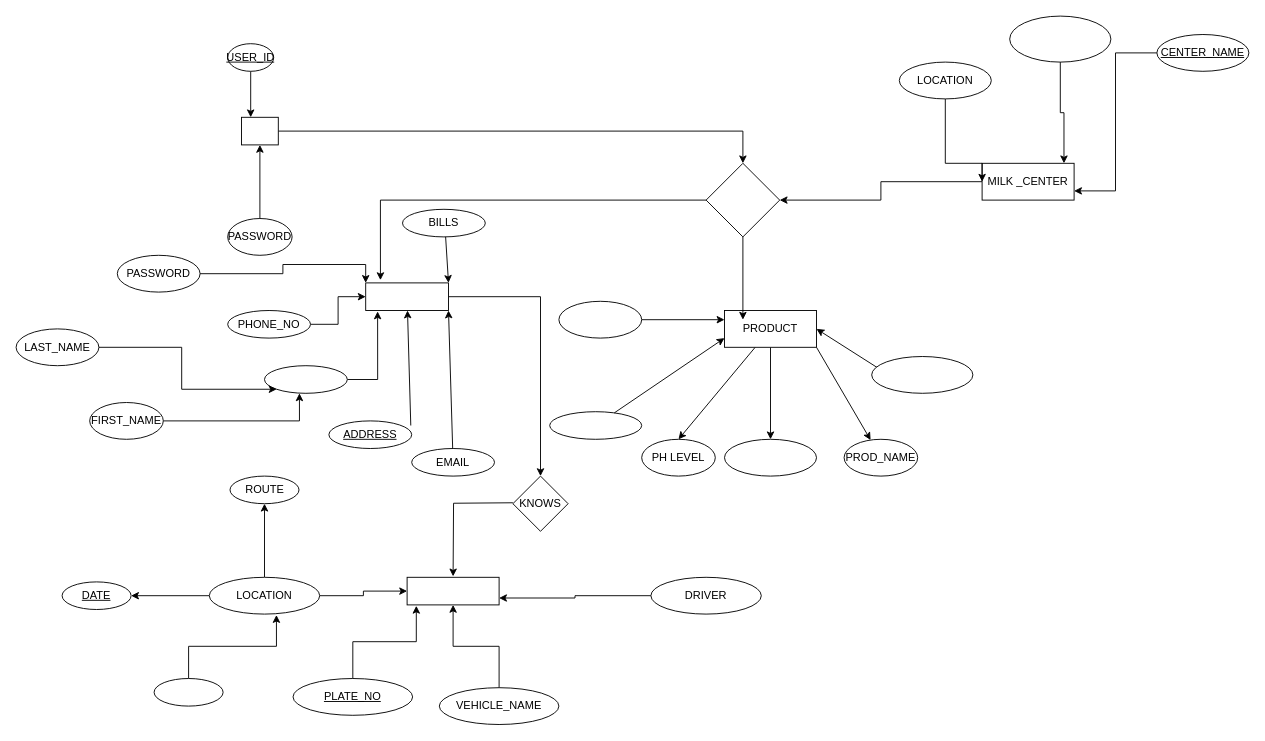
Some shapes in this 1265 by 741 pixel diagram are drawn without their labels. Here are the shapes that lost their labels. From the top down, the centre of each, then its label:
At [1060,38]: "QUANTITY_PROD".
At [259,130]: "ADMIN".
At [742,199]: "MANAGES".
At [406,296]: "CLIENT".
At [600,319]: "CURDNESS".
At [305,379]: "NAME".
At [922,374]: "TRANS_DETAAILS".
At [595,425]: "TEMPERATURE".
At [770,457]: "QUANTITYLEVEL".
At [452,590]: "TRANSPORT".
At [188,692]: "TIME".
